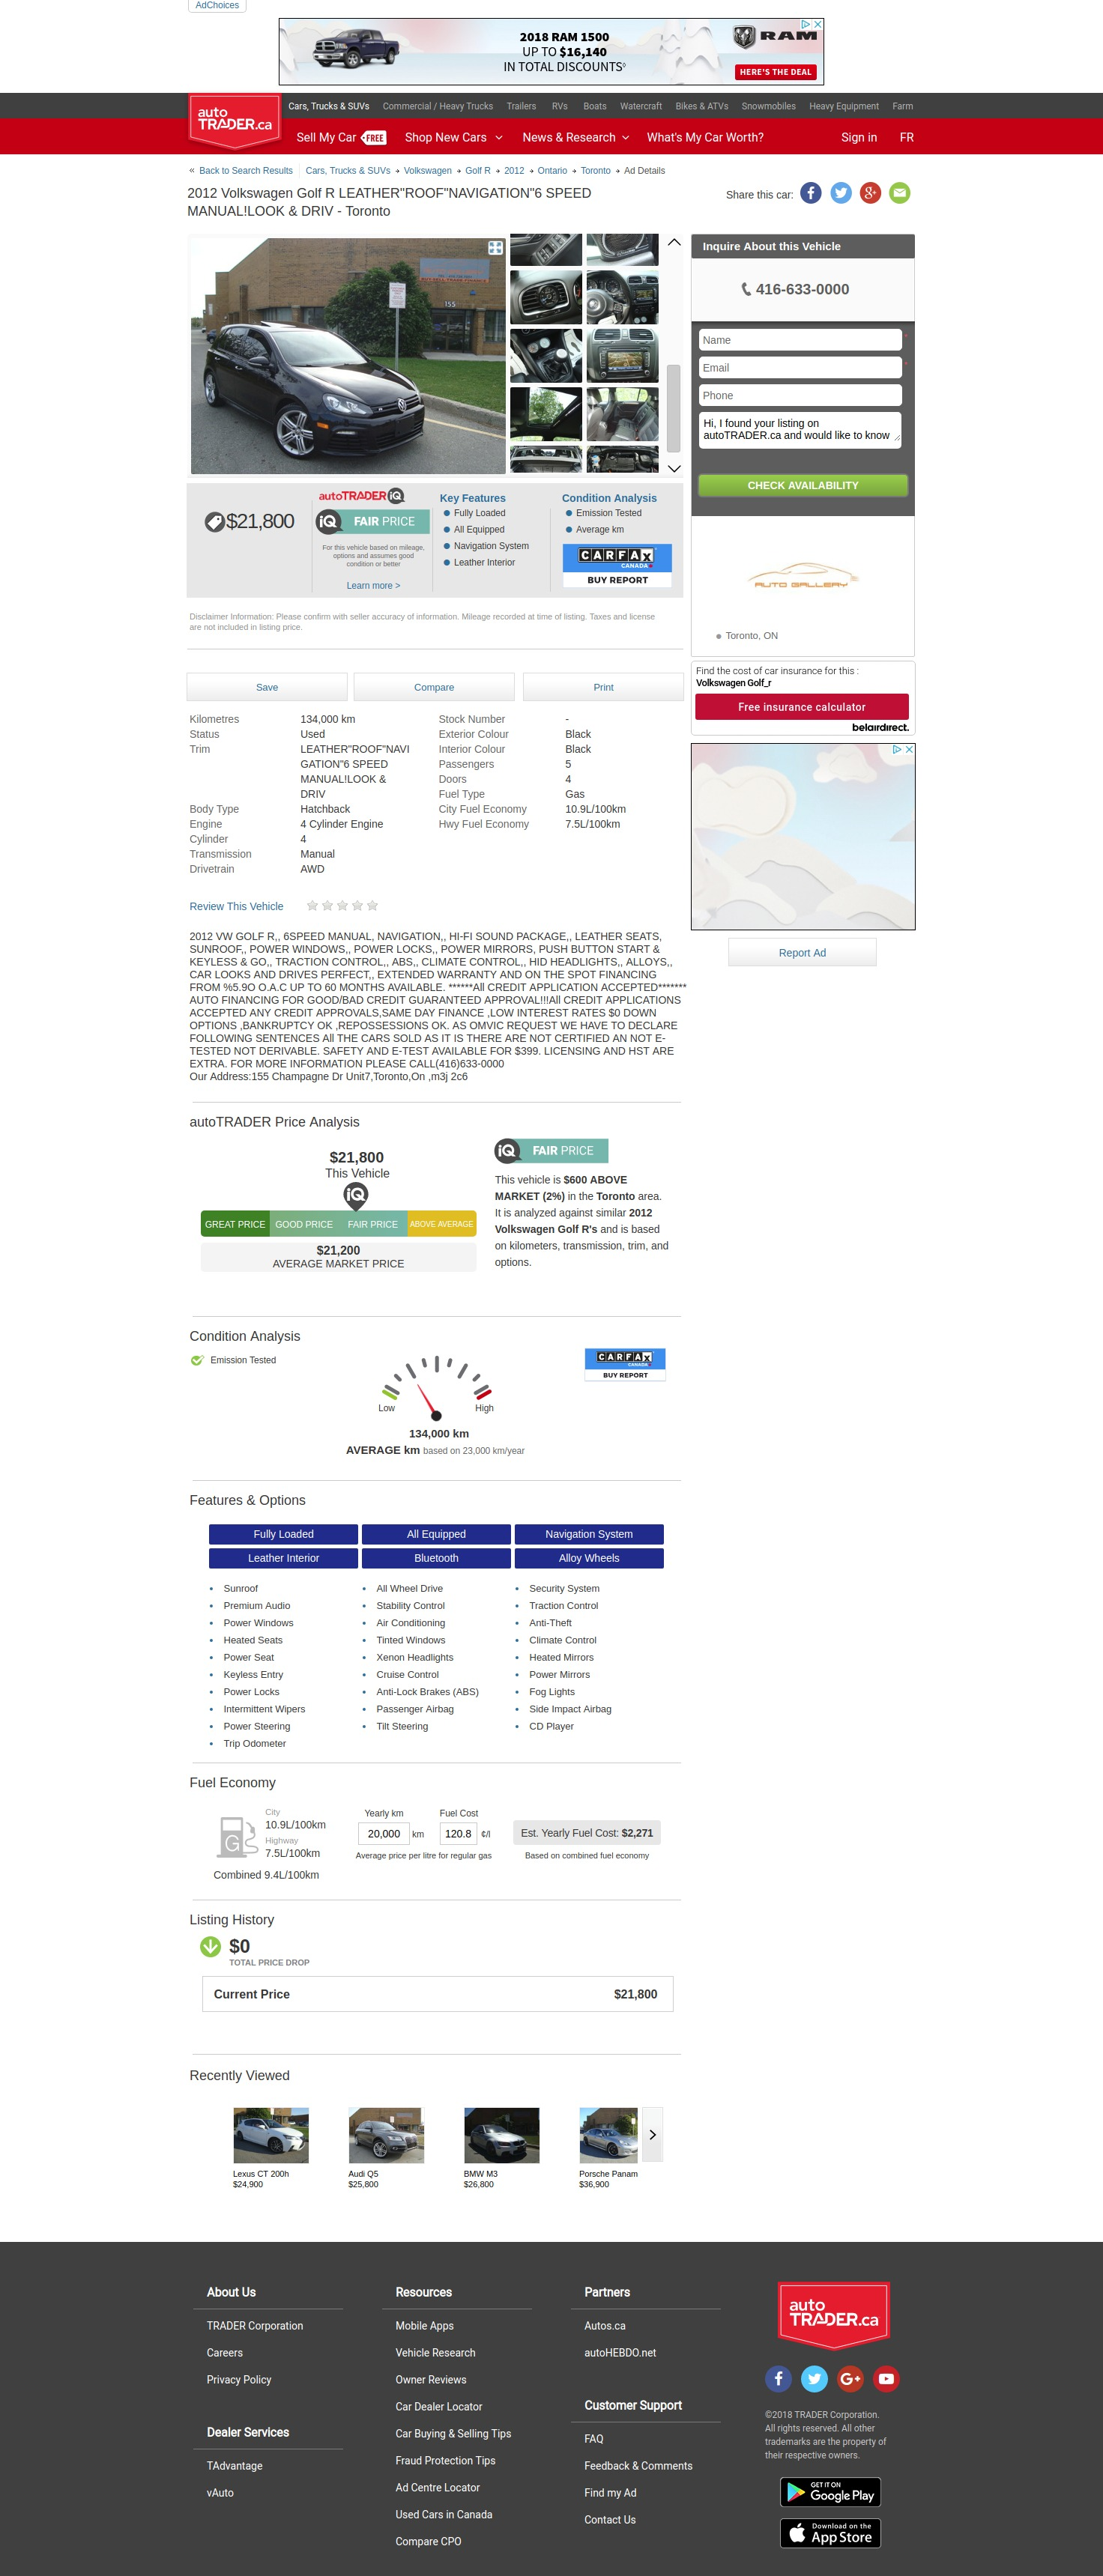car: (666, 463, 682, 475)
